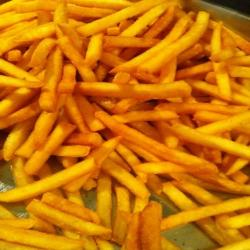fries: (11, 10, 230, 175)
